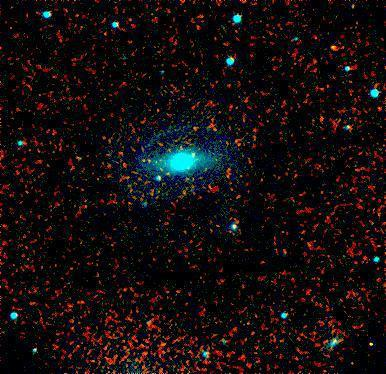star: (320, 33, 350, 63)
